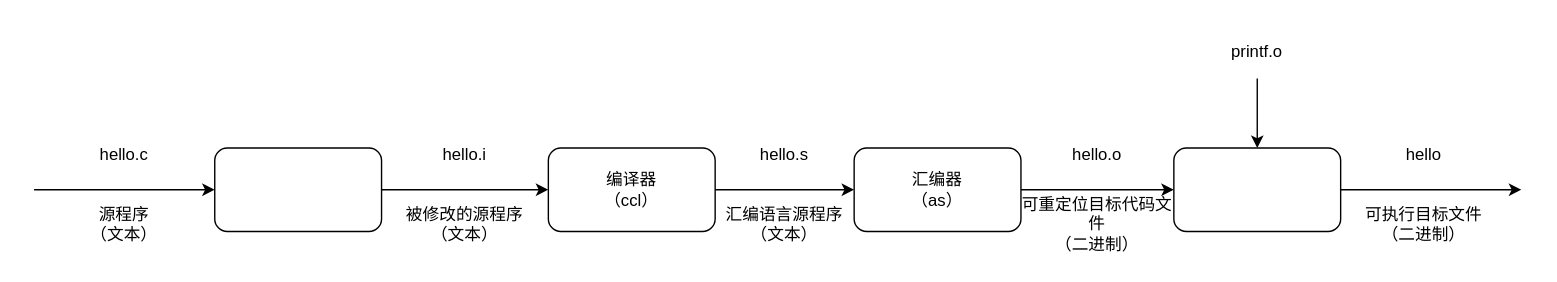
This 1557x282 diagram has some shape labels left out. Here are the shapes that lost their labels. From the top down, the box of each, then its label:
(213, 147, 382, 231): 预处理器 （cpp）
(1172, 147, 1341, 231): 链接器 （ld）
